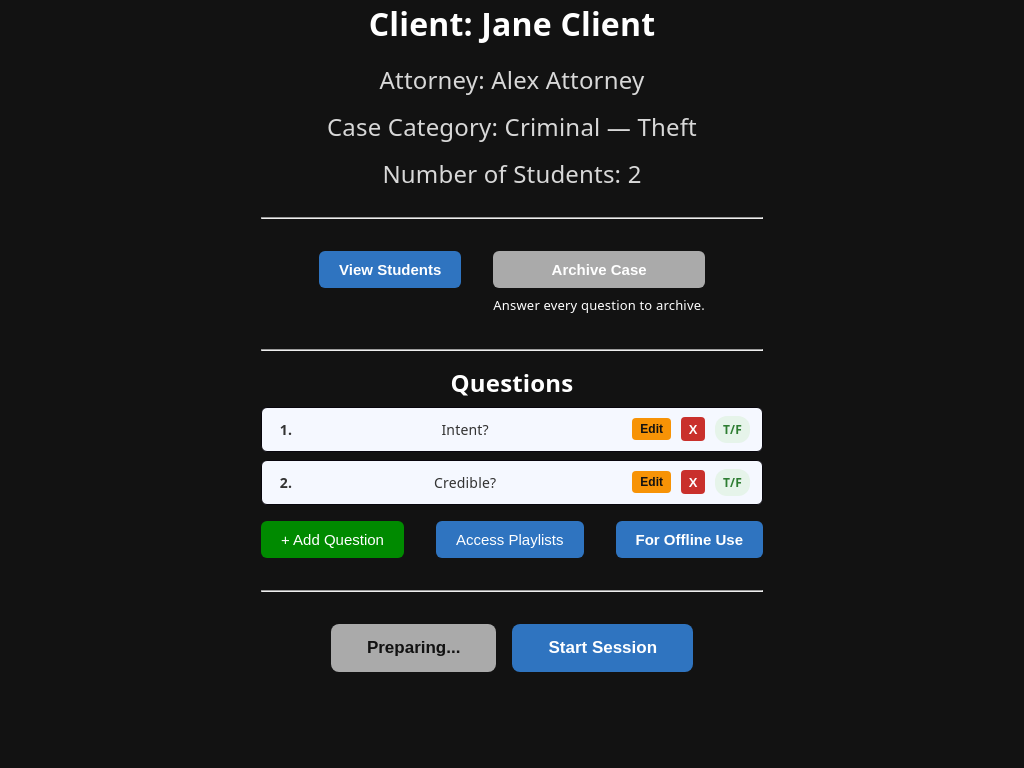
Scenario: CaseScreen start session › does not record the start when saving the case fails
The image size is (1024, 768).
(page scrolled)
Click the button "Start Session": (603, 648) 512,624 -> 693,672
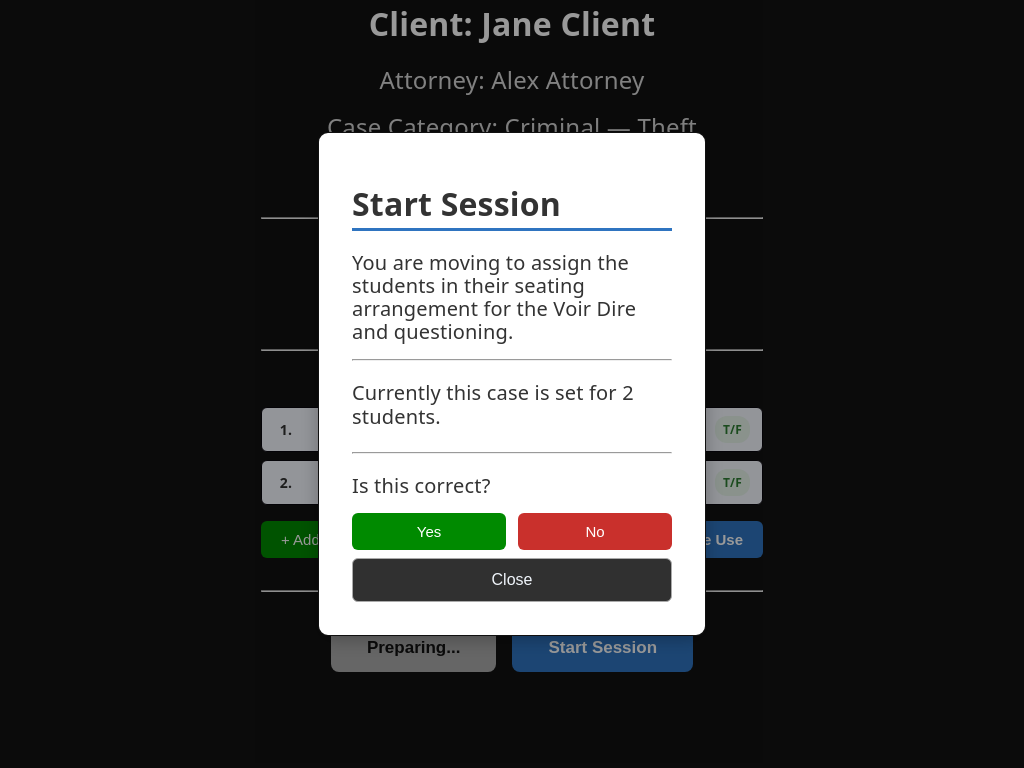
Click the button "Yes": (429, 532) 352,513 -> 506,550
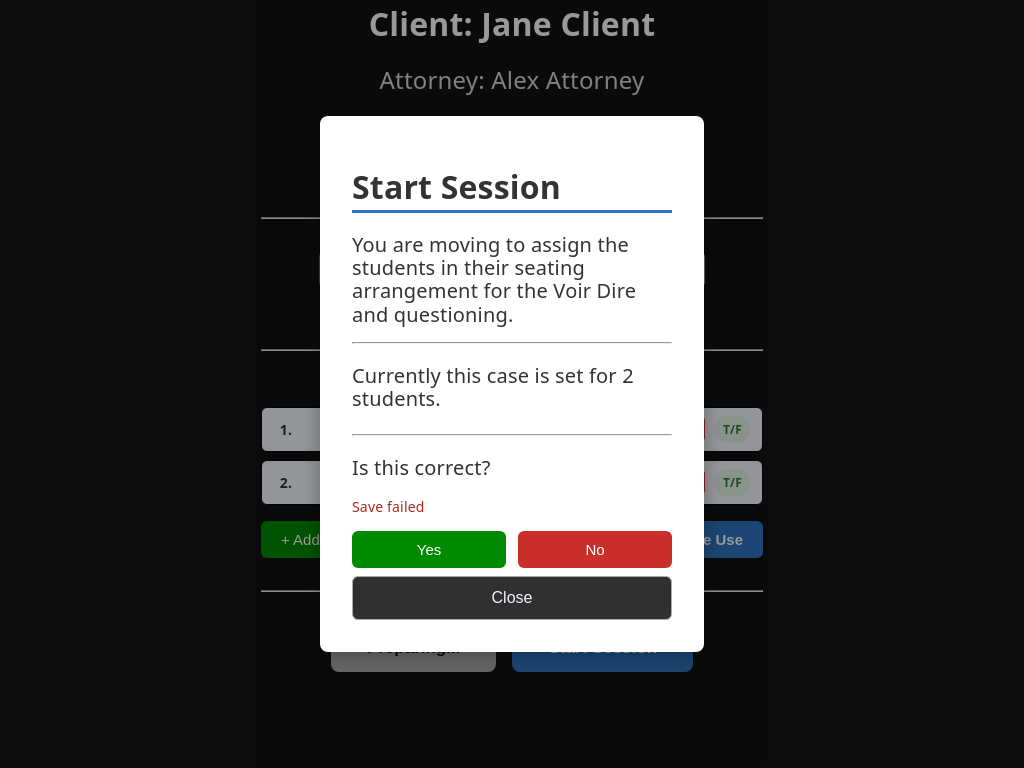
Now the text "Save failed" is shown, box 352,498 -> 425,516
